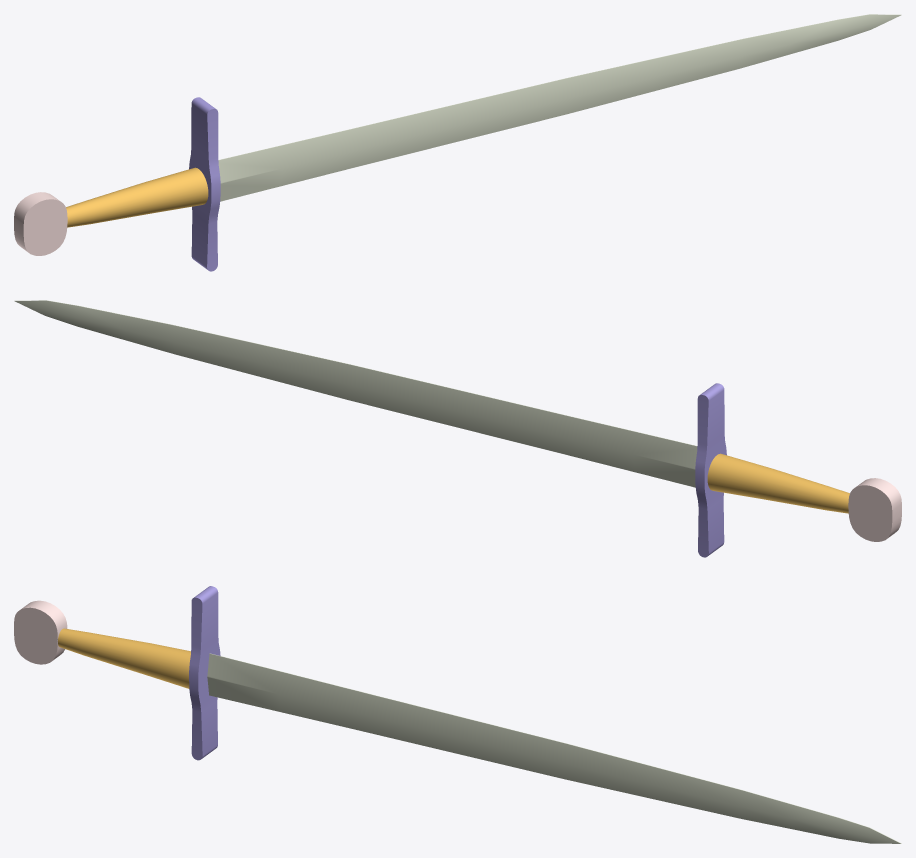
The picture shows the model from 3 angles, top to bottom: view 1: azimuth 30°, elevation 25°; view 2: azimuth 150°, elevation 25°; view 3: azimuth 330°, elevation 25°; orthographic projection.
Visible parts, largest first — view 1: lezvie_low__0, cherenock_low__0, Cube_low__0, Naverszie_low__0; view 2: lezvie_low__0, cherenock_low__0, Cube_low__0, Naverszie_low__0; view 3: lezvie_low__0, Cube_low__0, cherenock_low__0, Naverszie_low__0.
Boxes of the visible parts, bbox=[...] form: lezvie_low__0: bbox=[218, 14, 901, 201]; cherenock_low__0: bbox=[66, 167, 208, 227]; Cube_low__0: bbox=[189, 97, 220, 271]; Naverszie_low__0: bbox=[14, 192, 67, 255]; lezvie_low__0: bbox=[14, 300, 697, 487]; cherenock_low__0: bbox=[707, 453, 849, 513]; Cube_low__0: bbox=[695, 383, 726, 557]; Naverszie_low__0: bbox=[848, 478, 901, 541]; lezvie_low__0: bbox=[207, 653, 901, 843]; Cube_low__0: bbox=[189, 586, 220, 760]; cherenock_low__0: bbox=[58, 628, 190, 688]; Naverszie_low__0: bbox=[14, 600, 67, 664].
Size of the model in its own units: 1 by 0.1757 by 0.044.
